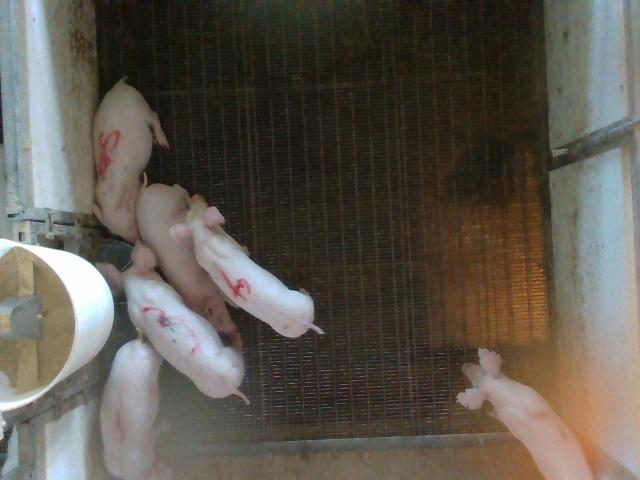pig-1: (99, 331, 161, 479)
pig-2: (458, 349, 592, 479)
pig-3: (96, 241, 248, 402)
pig-4: (171, 196, 324, 337)
pig-5: (92, 78, 169, 242)
